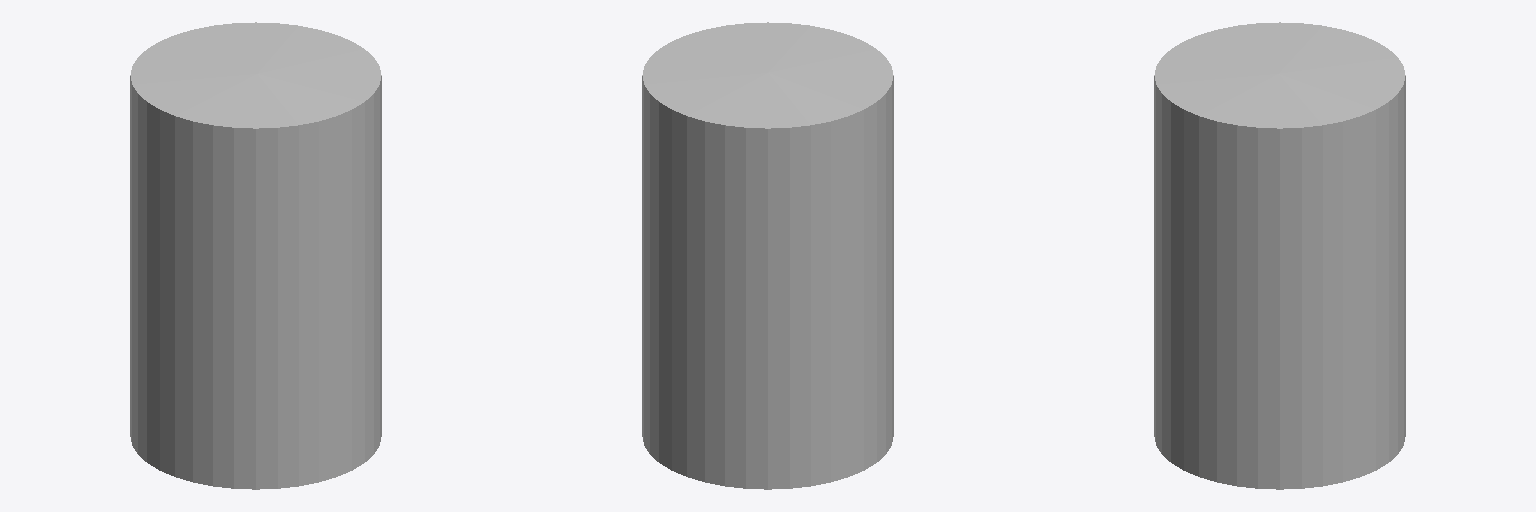
Rendered from generatorSzklo.obj.
3 views of the same model, side by side, from view 1: azimuth 30°, elevation 25°; view 2: azimuth 150°, elevation 25°; view 3: azimuth 270°, elevation 25° (orthographic).
Parts seen in each view (by area): view 1: Generator_szklo_Cylinder.001; view 2: Generator_szklo_Cylinder.001; view 3: Generator_szklo_Cylinder.001.
Part boxes in pixels (bbox=[...]): Generator_szklo_Cylinder.001: bbox=[130, 22, 381, 489]; Generator_szklo_Cylinder.001: bbox=[642, 22, 893, 489]; Generator_szklo_Cylinder.001: bbox=[1154, 22, 1405, 489].
Bounding box in the file's own units: 4.31 × 6.9 × 4.31.